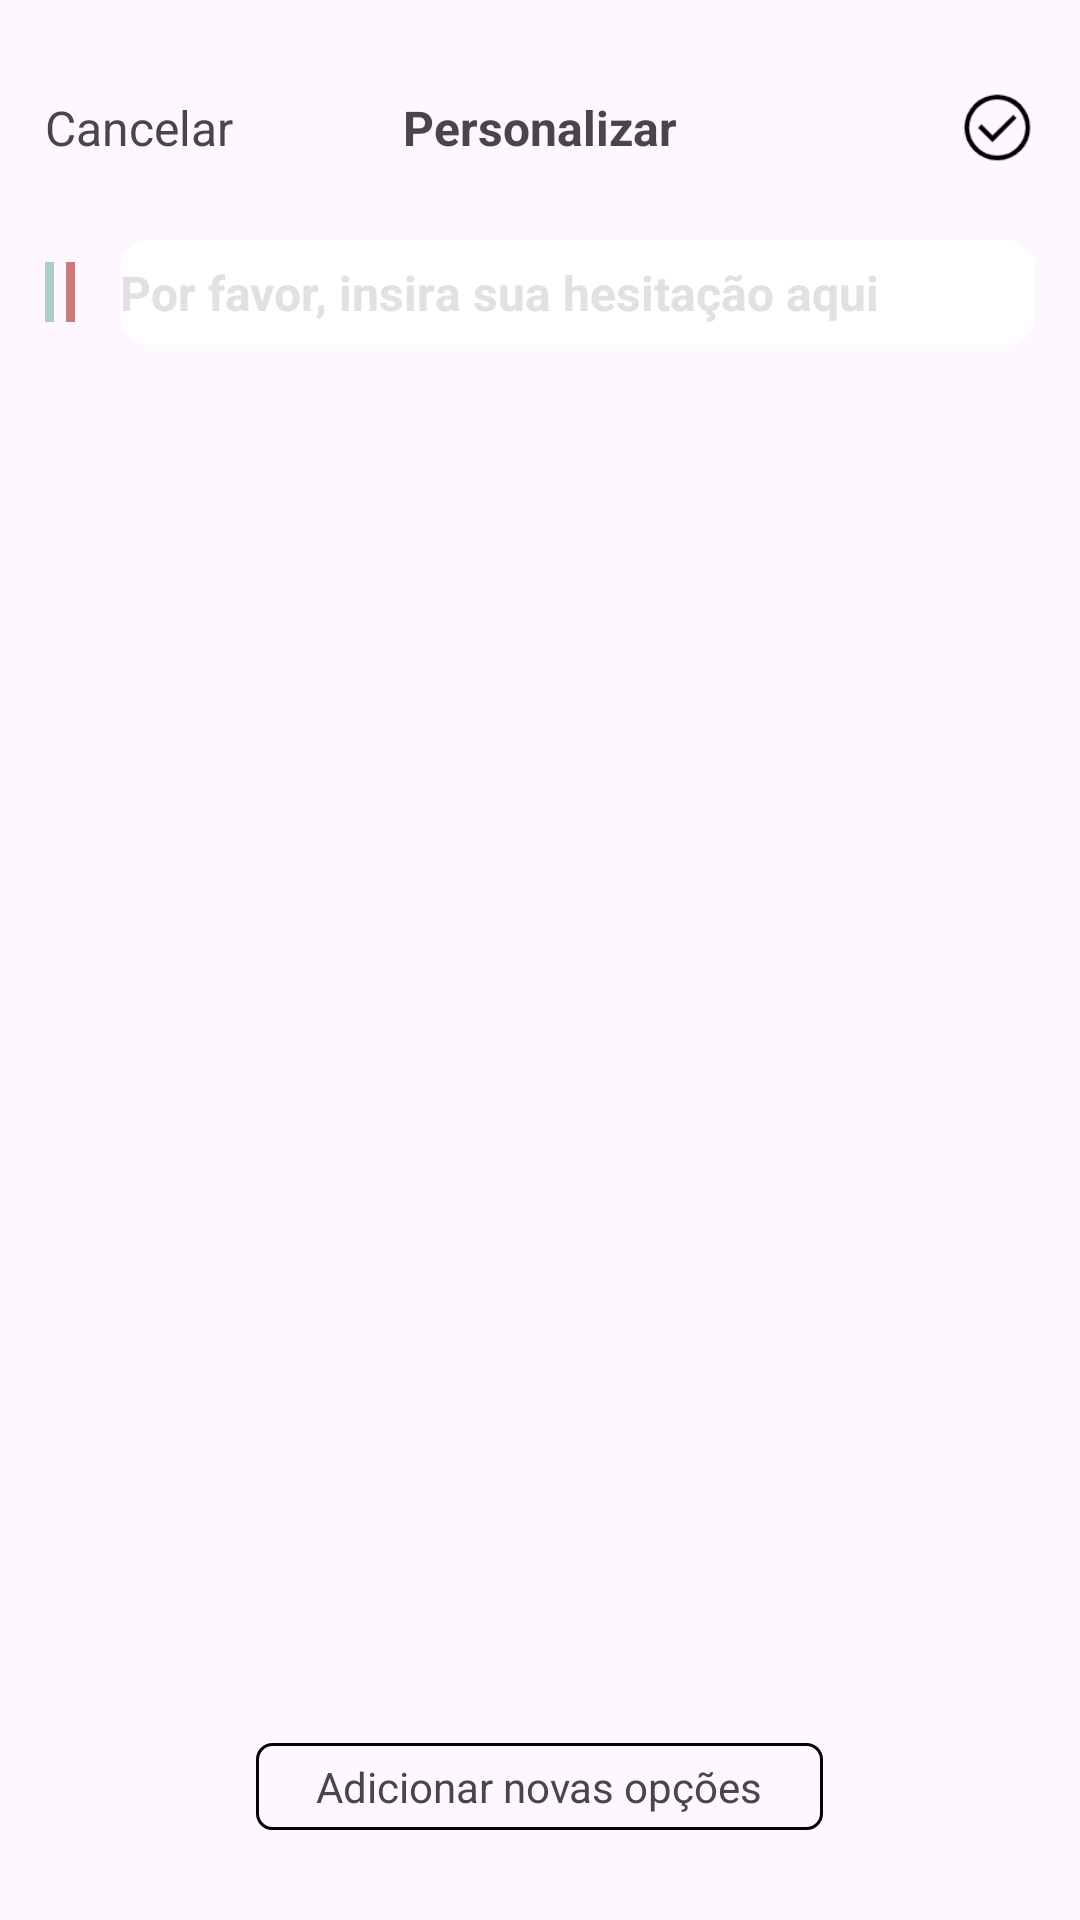

Icon bounding boxes for this 1080*1920 phone screenshot, format (left=x1, top=y1, right=x2, bottom=y2):
yuan dui: (left=964, top=94, right=1031, bottom=161)
